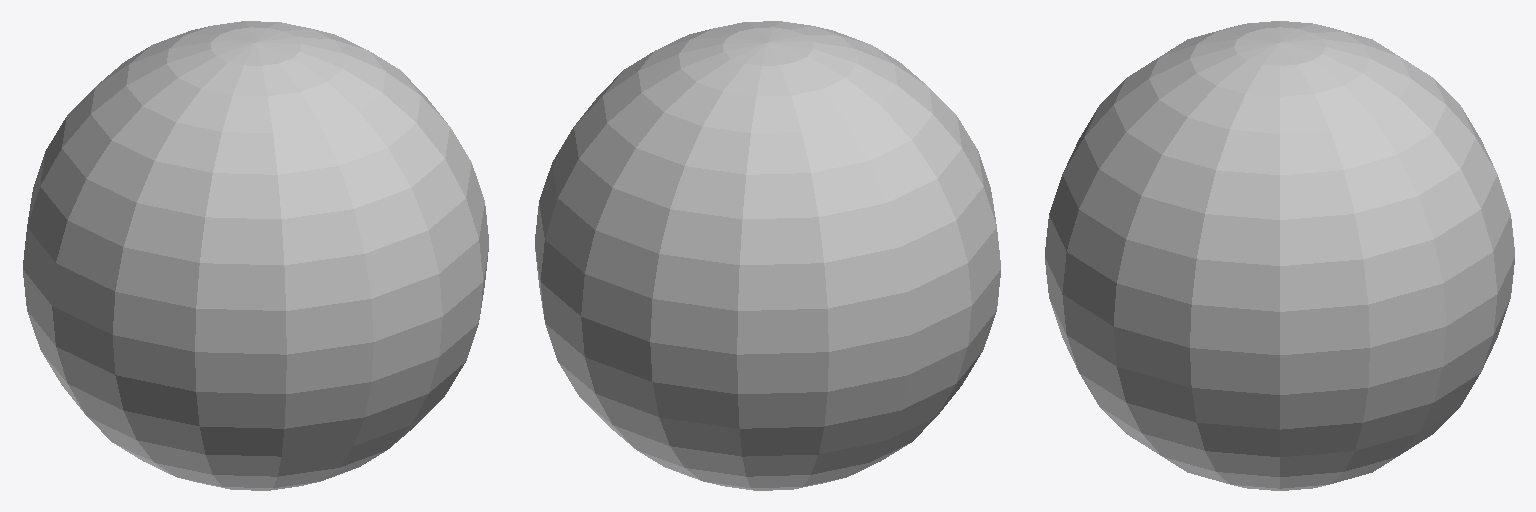
Rendered from Balls.obj.
3 renders of one model, left to right at view 1: azimuth 30°, elevation 25°; view 2: azimuth 150°, elevation 25°; view 3: azimuth 270°, elevation 25°, orthographic.
Visible parts, largest first — view 1: Sphere.015_Sphere.030, Sphere.000_Sphere.047, Sphere.001_Sphere.048, Sphere.012_Sphere.059, Sphere.002_Sphere.049, Sphere.011_Sphere.058, Sphere.010_Sphere.057, Sphere.013_Sphere.060, Sphere.004_Sphere.051, Sphere.006_Sphere.053, Sphere.009_Sphere.056, Sphere.014_Sphere.061 (+3 smaller); view 2: Sphere.000_Sphere.047, Sphere.015_Sphere.030, Sphere.001_Sphere.048, Sphere.002_Sphere.049, Sphere.004_Sphere.051, Sphere.012_Sphere.059, Sphere.013_Sphere.060, Sphere.005_Sphere.052, Sphere.003_Sphere.050, Sphere.009_Sphere.056, Sphere.008_Sphere.055, Sphere.006_Sphere.053 (+2 smaller); view 3: Sphere.015_Sphere.030, Sphere.000_Sphere.047, Sphere.001_Sphere.048, Sphere.006_Sphere.053, Sphere.004_Sphere.051, Sphere.012_Sphere.059, Sphere.013_Sphere.060, Sphere.010_Sphere.057, Sphere.008_Sphere.055, Sphere.002_Sphere.049, Sphere.005_Sphere.052.
Part boxes in pixels (x1,y1,x2,y2): Sphere.015_Sphere.030: (52,23,484,490); Sphere.000_Sphere.047: (24,26,488,476); Sphere.001_Sphere.048: (27,35,488,489); Sphere.012_Sphere.059: (52,21,427,445); Sphere.002_Sphere.049: (23,49,299,487); Sphere.011_Sphere.058: (68,94,380,490); Sphere.010_Sphere.057: (197,40,384,449); Sphere.013_Sphere.060: (91,26,435,474); Sphere.004_Sphere.051: (74,29,370,445); Sphere.006_Sphere.053: (147,21,415,456); Sphere.009_Sphere.056: (48,49,352,475); Sphere.014_Sphere.061: (68,133,276,410); Sphere.000_Sphere.047: (539,30,1000,476); Sphere.015_Sphere.030: (541,21,971,476); Sphere.001_Sphere.048: (535,26,996,476); Sphere.002_Sphere.049: (596,42,996,489); Sphere.004_Sphere.051: (608,41,996,489); Sphere.012_Sphere.059: (613,43,1000,474); Sphere.013_Sphere.060: (545,26,911,490); Sphere.005_Sphere.052: (642,45,909,429); Sphere.003_Sphere.050: (616,55,897,427); Sphere.009_Sphere.056: (792,89,898,474); Sphere.008_Sphere.055: (638,40,899,262); Sphere.006_Sphere.053: (535,40,955,487); Sphere.015_Sphere.030: (1045,26,1514,490); Sphere.000_Sphere.047: (1064,27,1510,431); Sphere.001_Sphere.048: (1072,27,1487,361); Sphere.006_Sphere.053: (1085,54,1446,490); Sphere.004_Sphere.051: (1279,21,1445,483); Sphere.012_Sphere.059: (1159,33,1445,142); Sphere.013_Sphere.060: (1134,32,1496,410); Sphere.010_Sphere.057: (1160,59,1279,133); Sphere.008_Sphere.055: (1203,24,1413,128); Sphere.002_Sphere.049: (1129,21,1497,279); Sphere.005_Sphere.052: (1288,33,1445,490).
Bounding box in the file's own units: 0.105 × 0.105 × 0.105.